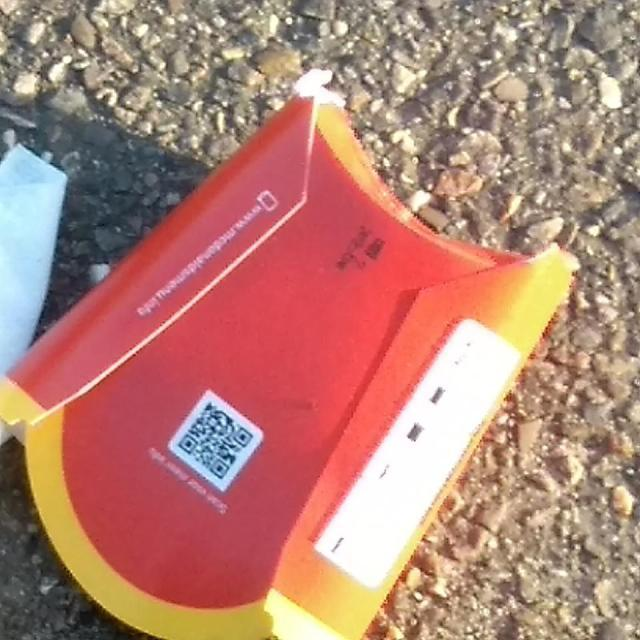Paper: (0, 66, 581, 639), (0, 138, 70, 447)
